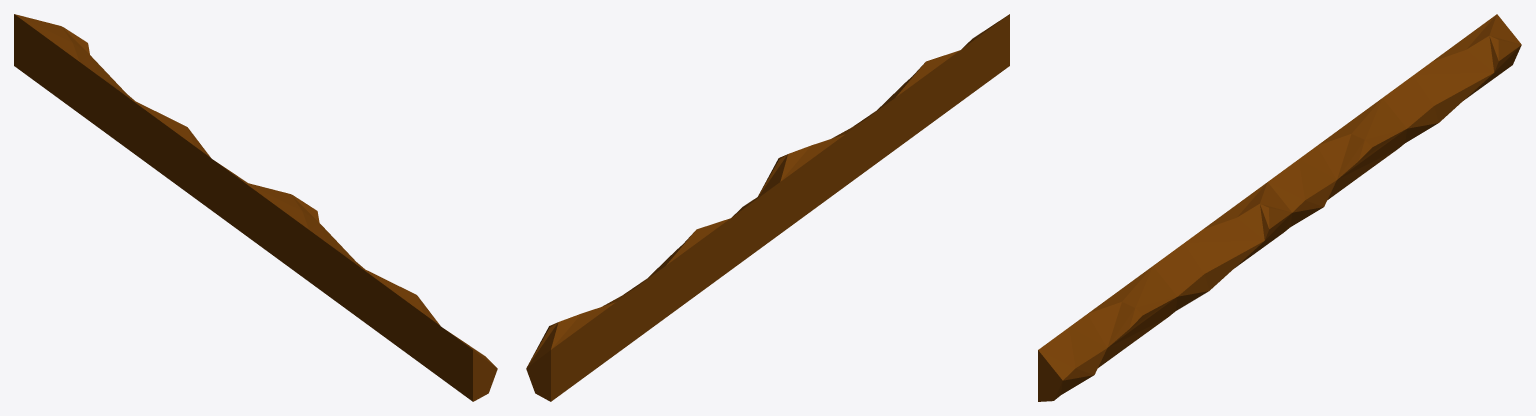
The model's file is DarkRockEdgeLargeStraight2.fbx.
3 renders of one model, left to right at view 1: azimuth 30°, elevation 25°; view 2: azimuth 150°, elevation 25°; view 3: azimuth 330°, elevation 25°, orthographic.
Visible parts, largest first — view 1: LightNaturalRockEdgeStraightMedium_4; view 2: LightNaturalRockEdgeStraightMedium_4; view 3: LightNaturalRockEdgeStraightMedium_4.
Boxes of the visible parts, left/top/right/bottom form: LightNaturalRockEdgeStraightMedium_4: left=14, top=14, right=497, bottom=401; LightNaturalRockEdgeStraightMedium_4: left=526, top=14, right=1009, bottom=401; LightNaturalRockEdgeStraightMedium_4: left=1038, top=14, right=1521, bottom=401.
Size of the model in its own units: 152 by 212 by 3200.
Materials: 2 (2 with a texture image).
